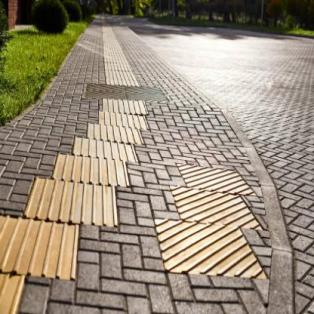Podoctatil: (0, 23, 140, 312), (161, 167, 246, 278)
